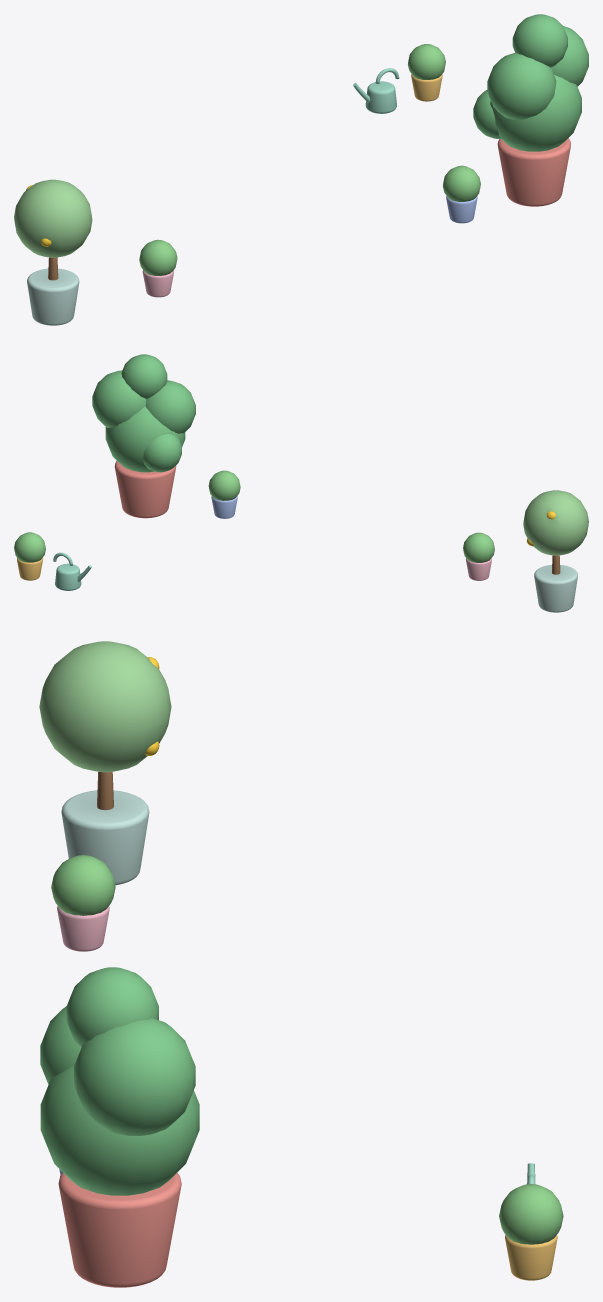
Rendered from balconyplants.glb.
The picture shows the model from 3 angles, top to bottom: view 1: azimuth 30°, elevation 25°; view 2: azimuth 150°, elevation 25°; view 3: azimuth 270°, elevation 25°; orthographic projection. The views are drawn at different scales.
Visible parts, largest first — view 1: c7cc68a, canopy, big_pot, c8ccf8a, lemon_pot, c9fdcc8, pot_2, pot_1, pot_0; view 2: c7cc68a, canopy, big_pot, c8ccf8a, lemon_pot, c9fdcc8, pot_1, pot_2, pot_0; view 3: c7cc68a, canopy, big_pot, c8ccf8a, lemon_pot, pot_2, pot_0.
Boxes of the visible parts, x1,y1,x2,y2 form: c7cc68a: (473, 14, 588, 151); canopy: (14, 179, 92, 257); big_pot: (497, 138, 570, 206); c8ccf8a: (139, 44, 480, 275); lemon_pot: (27, 268, 79, 325); c9fdcc8: (353, 68, 399, 113); pot_2: (411, 74, 442, 101); pot_1: (446, 196, 477, 223); pot_0: (142, 270, 173, 297); c7cc68a: (92, 354, 195, 472); canopy: (523, 490, 588, 555); big_pot: (114, 461, 176, 518); c8ccf8a: (14, 470, 494, 562); lemon_pot: (534, 564, 577, 612); c9fdcc8: (53, 552, 91, 590); pot_1: (211, 496, 237, 518); pot_2: (17, 557, 42, 580); pot_0: (465, 558, 491, 580); c7cc68a: (40, 967, 199, 1195); canopy: (39, 641, 171, 772); big_pot: (58, 1172, 181, 1287); c8ccf8a: (51, 855, 563, 1244); lemon_pot: (61, 790, 149, 885); pot_2: (505, 1235, 557, 1280); pot_0: (57, 906, 109, 951).
Bounding box in the file's own units: 7.56 × 2.27 × 3.57.
